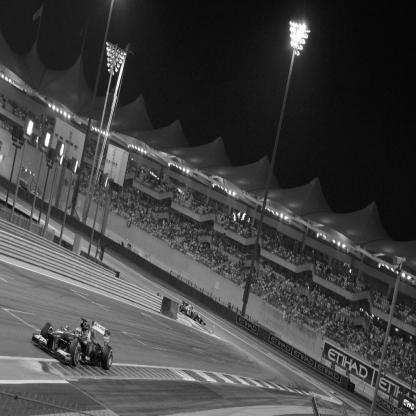car: (27, 308, 143, 389)
